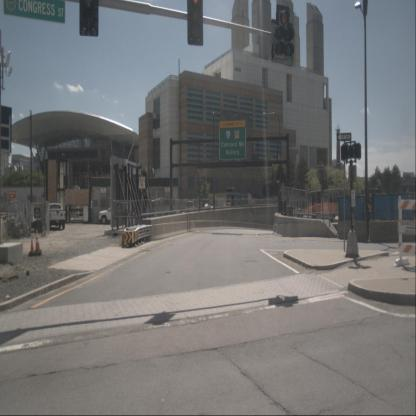barrier: (368, 221, 404, 243), (337, 220, 368, 242)
cone: (35, 230, 42, 252), (28, 237, 34, 253)
